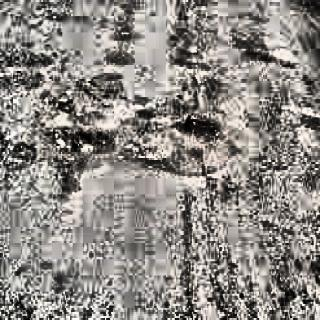pothole: (41, 94, 108, 194), (173, 94, 233, 161)
